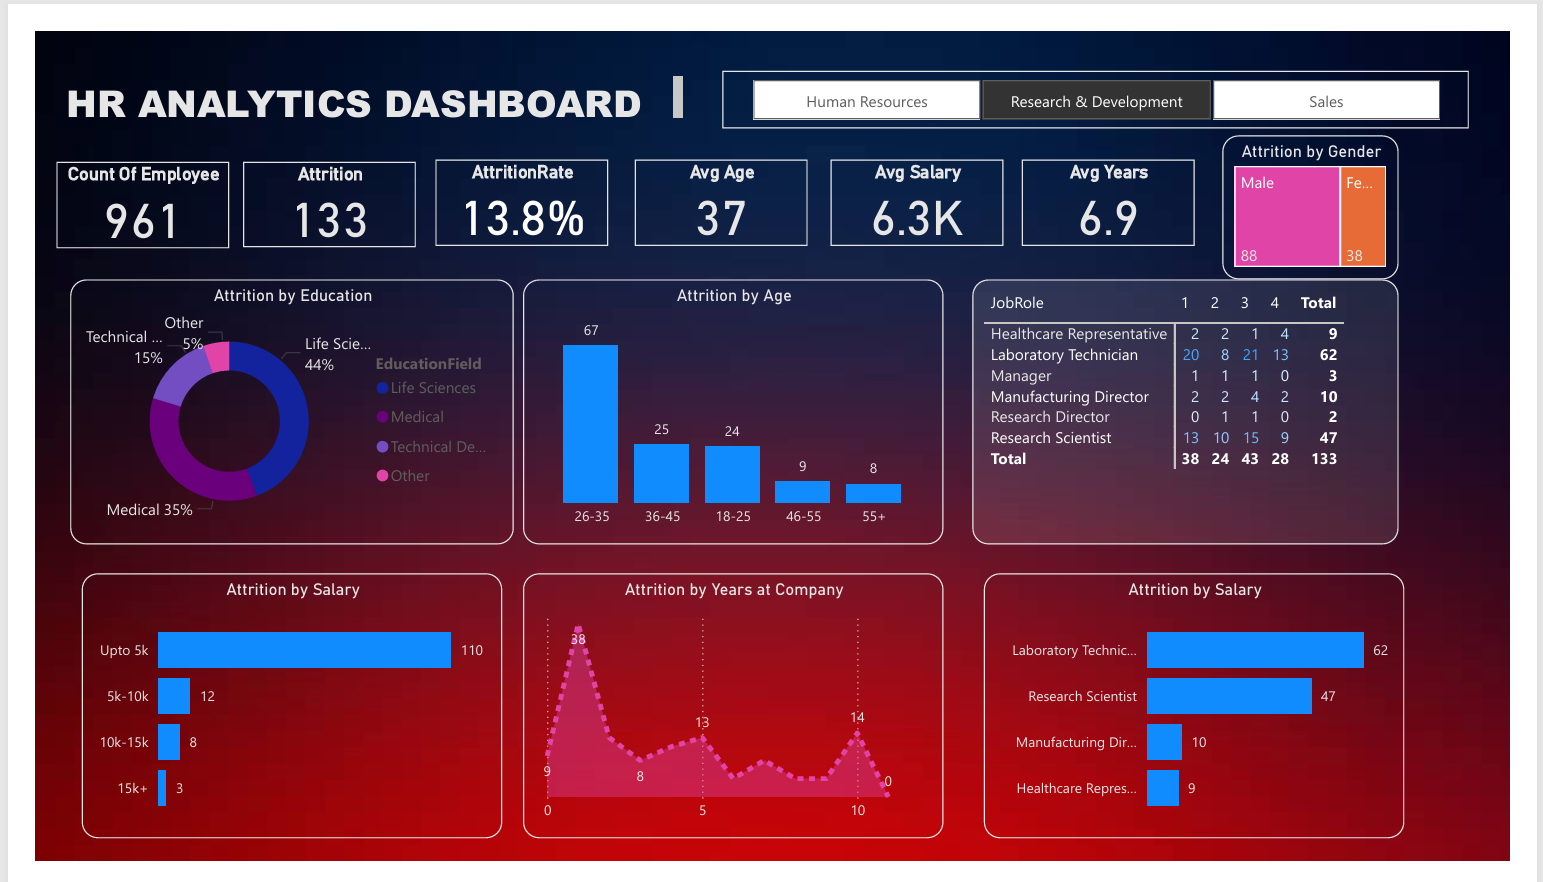

The dashboard page shown, as its layout file describes it:
{"tool":"powerbi","page":{"name":"Page 1","canvas":[1280,720],"ordinal":0},"visuals":[{"type":"card","title":"Count Of Employee","fields":{"Values":["CountNonNull(HR_Analytics.EmpID)"]},"box":[17.5,112.5,150,75],"z":0},{"type":"card","title":"AttritionRate","fields":{"Values":["HR_Analytics.AttritionRate"]},"box":[347.1,111.4,150,74.3],"z":1000},{"type":"card","title":"Avg Age","fields":{"Values":["Avg(HR_Analytics.Age)"]},"box":[520,111.4,150,74.3],"z":2000},{"type":"card","title":"Attrition","fields":{"Values":["Sum(HR_Analytics.AttritionCount)"]},"box":[180,112.9,150,74.3],"z":3000},{"type":"card","title":"Avg Salary","fields":{"Values":["Avg(HR_Analytics.MonthlyIncome)"]},"box":[690,111.4,150,74.3],"z":4000},{"type":"card","title":"Avg Years","fields":{"Values":["Avg(HR_Analytics.YearsAtCompany)"]},"box":[855.7,111.4,150,74.3],"z":5000},{"type":"donutChart","title":"Attrition by Education","fields":{"Category":["HR_Analytics.EducationField"],"Y":["Sum(HR_Analytics.AttritionCount)"]},"box":[30,215,385,230],"z":6000},{"type":"clusteredColumnChart","title":"Attrition by Age","fields":{"Category":["HR_Analytics.AgeGroup"],"Y":["Sum(HR_Analytics.AttritionCount)"]},"box":[422.5,215,365,230],"z":7000},{"type":"pivotTable","fields":{"Rows":["HR_Analytics.JobRole"],"Columns":["HR_Analytics.JobSatisfaction"],"Values":["Sum(HR_Analytics.AttritionCount)"]},"box":[812.5,215,370,230],"z":8000},{"type":"barChart","title":"Attrition by Salary","fields":{"Category":["HR_Analytics.SalarySlab"],"Y":["Sum(HR_Analytics.AttritionCount)"]},"box":[40,470,365,230],"z":9000},{"type":"barChart","title":"Attrition by Salary","fields":{"Y":["Sum(HR_Analytics.AttritionCount)"],"Category":["HR_Analytics.JobRole"]},"box":[822.5,470,365,230],"z":10000},{"type":"areaChart","title":"Attrition by Years at Company","fields":{"Category":["HR_Analytics.YearsAtCompany"],"Y":["Sum(HR_Analytics.AttritionCount)"]},"box":[422.5,470,365,230],"z":11000},{"type":"treemap","title":"Attrition by Gender","fields":{"Group":["HR_Analytics.Gender"],"Values":["Sum(HR_Analytics.AttritionCount)"]},"box":[1030,90,152.5,125],"z":12000},{"type":"slicer","fields":{"Values":["HR_Analytics.Department"]},"box":[567.5,35,647.5,50],"z":13000},{"type":"textbox","box":[0,35,567.5,50],"z":14000}]}

Visuals, with their boxes in screenshot pixels (x1, y1, x2, y2), scaled from the page's 1280x720 canvas onto the 1543x882 screenshot:
"Count Of Employee" card: <box>21,138,202,230</box>
"AttritionRate" card: <box>418,136,599,227</box>
"Avg Age" card: <box>627,136,808,227</box>
"Attrition" card: <box>217,138,398,229</box>
"Avg Salary" card: <box>832,136,1013,227</box>
"Avg Years" card: <box>1032,136,1212,227</box>
"Attrition by Education" donutChart: <box>36,263,500,545</box>
"Attrition by Age" clusteredColumnChart: <box>509,263,949,545</box>
pivotTable - HR_Analytics.JobRole x HR_Analytics.JobSatisfaction: <box>979,263,1425,545</box>
"Attrition by Salary" barChart: <box>48,576,488,858</box>
"Attrition by Salary" barChart: <box>991,576,1431,858</box>
"Attrition by Years at Company" areaChart: <box>509,576,949,858</box>
"Attrition by Gender" treemap: <box>1242,110,1425,263</box>
slicer - HR_Analytics.Department: <box>684,43,1465,104</box>
textbox: <box>0,43,684,104</box>
